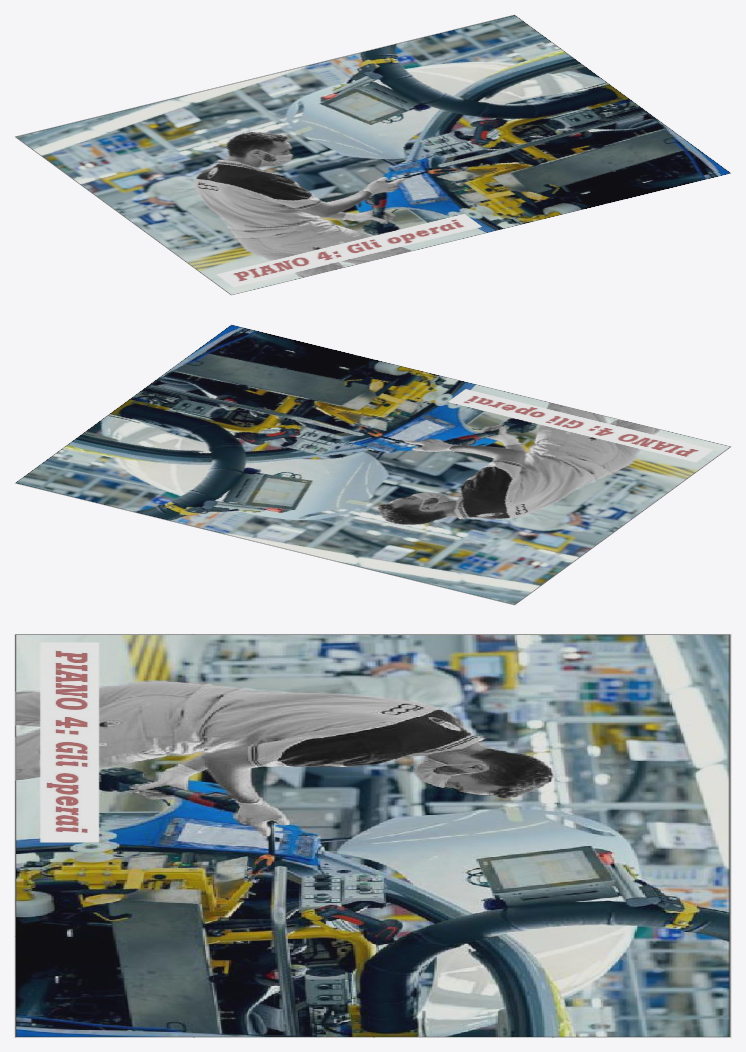
Rendered from FOTO4.obj.
3 views of the same model, one above another, from view 1: azimuth 30°, elevation 25°; view 2: azimuth 150°, elevation 25°; view 3: azimuth 270°, elevation 25° (orthographic). The views are drawn at different scales.
Visible parts, largest first — view 1: Plane001; view 2: Plane001; view 3: Plane001.
Part boxes in pixels (box(x1,y1,x2,y2)): Plane001: box(14, 14, 731, 295); Plane001: box(14, 324, 731, 605); Plane001: box(14, 634, 731, 1037).
Size of the model in its own units: 8.45 by 0 by 6.35.
